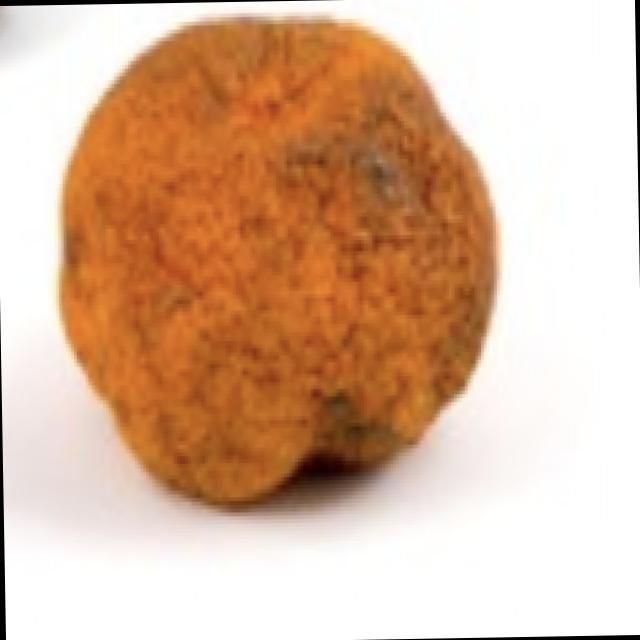rotten-orange: (56, 11, 520, 503)
